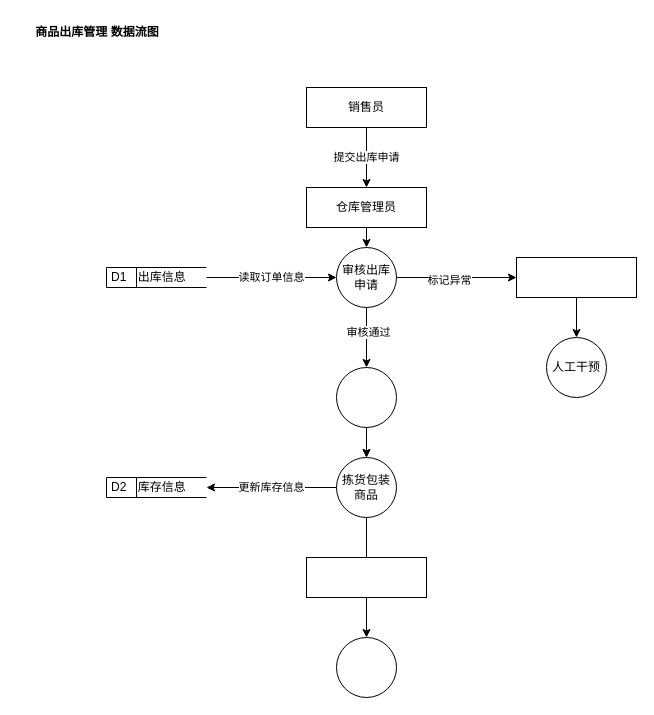
This 654x715 diagram has some shape labels left out. The shapes that lost their labels are listed below. From the top down, each one's box as (x1, y1, x2, y2) in pixels, then its label:
(516, 256, 636, 298): 系统
(336, 366, 396, 428): 确认出库
(306, 556, 426, 598): 物流人员
(336, 636, 396, 698): 发货
